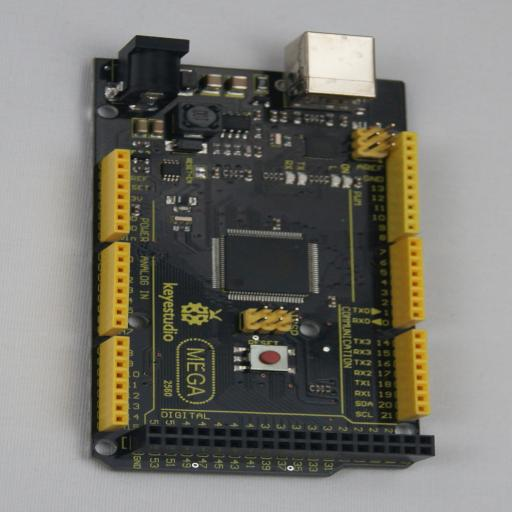Arduino Mega 2560 -Black and Yellow-: (83, 33, 435, 478)
